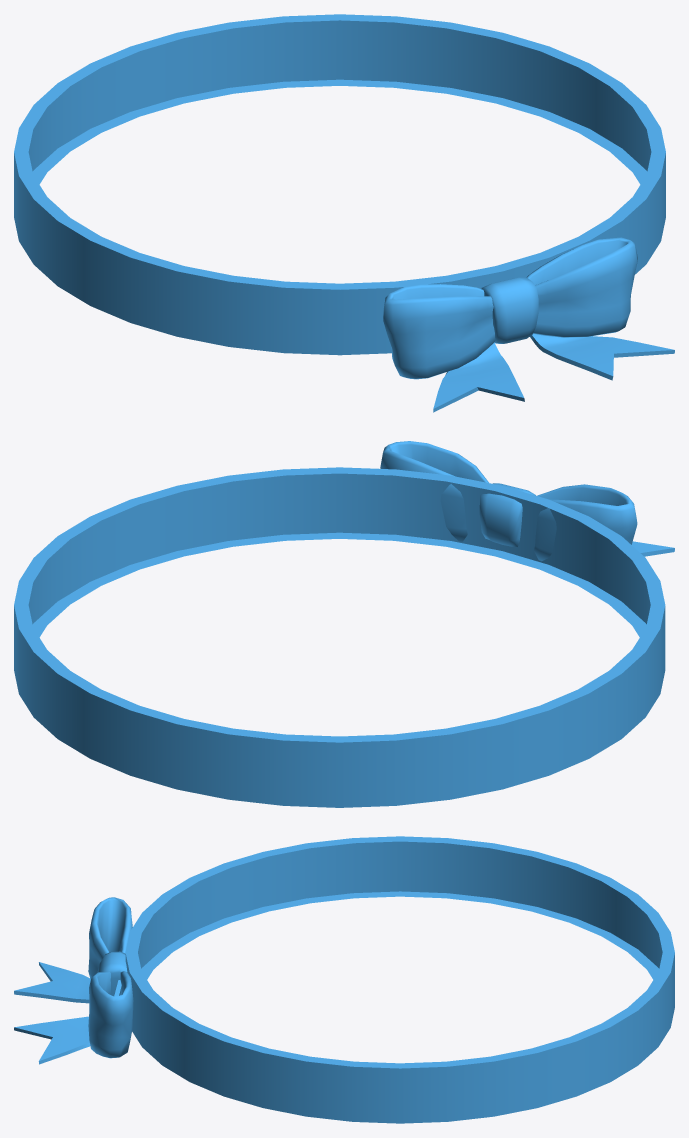
Rendered from Cake_Lrg_itemsSide_BowRibbon-A.FBX.
The picture shows the model from 3 angles, top to bottom: view 1: azimuth 30°, elevation 25°; view 2: azimuth 150°, elevation 25°; view 3: azimuth 270°, elevation 25°; orthographic projection. The views are drawn at different scales.
Visible parts, largest first — view 1: Cake_Lrg_itemsSide_BowRibbon-A; view 2: Cake_Lrg_itemsSide_BowRibbon-A; view 3: Cake_Lrg_itemsSide_BowRibbon-A.
Part boxes in pixels (x1,y1,x2,y2): Cake_Lrg_itemsSide_BowRibbon-A: (14, 14, 674, 412); Cake_Lrg_itemsSide_BowRibbon-A: (14, 441, 674, 807); Cake_Lrg_itemsSide_BowRibbon-A: (14, 836, 674, 1123).
Bounding box in the file's own units: 9916 × 1393 × 11929.
